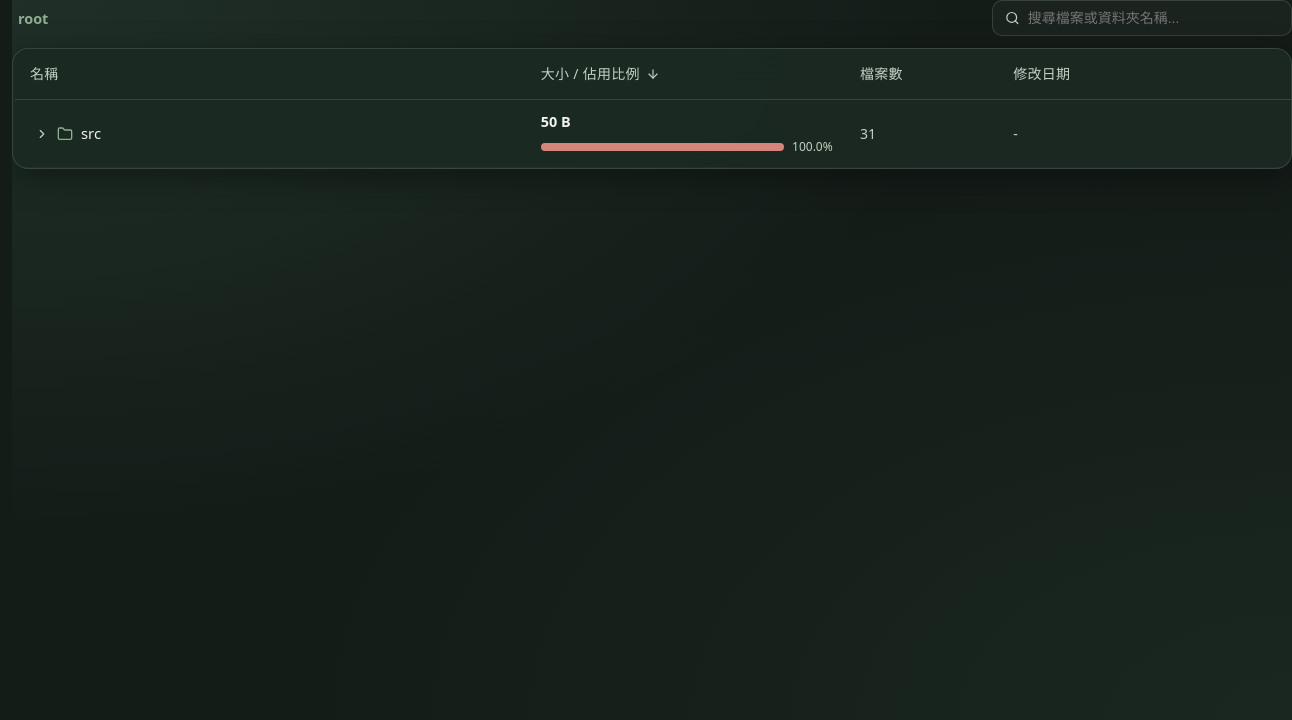
Test: TreeTable › toggles a directory expander and shows an empty search state
This screenshot has width=1292, height=720.
Click the button named "展開src" at (42, 134), box left=31, top=122, right=53, bottom=144
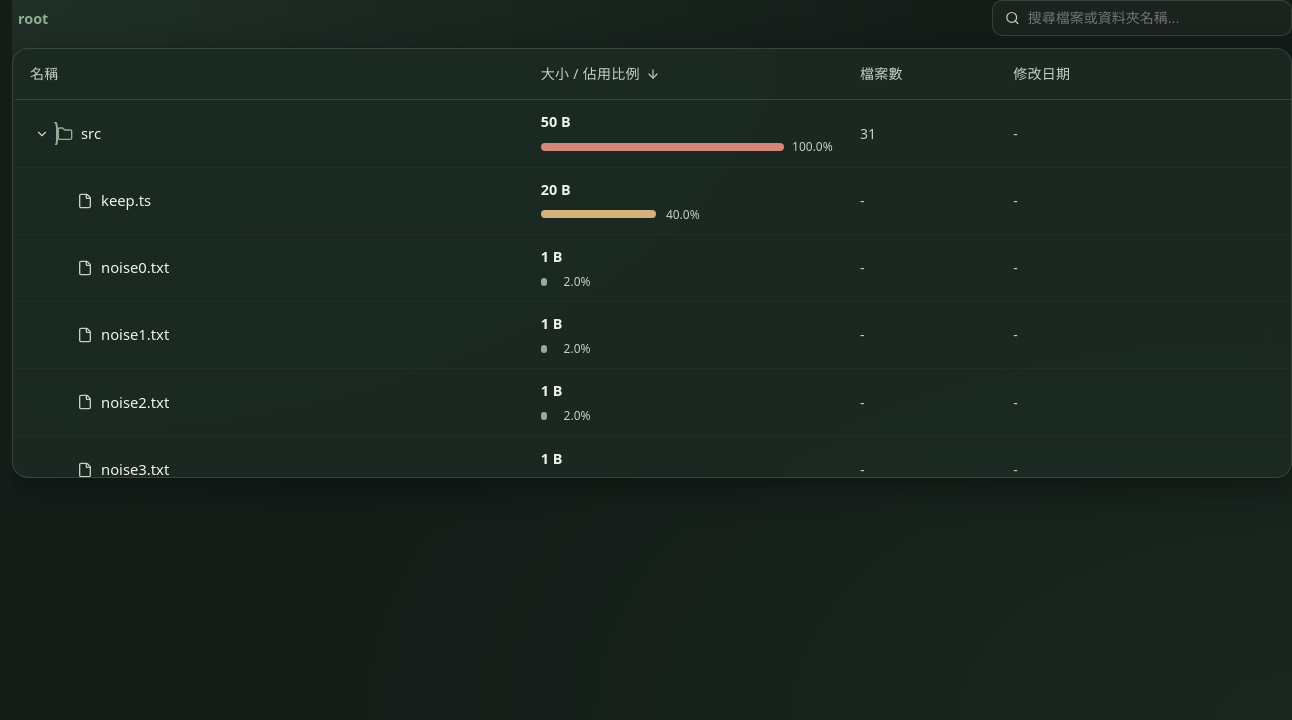
Type "zzzz-missing" into the field labelled "搜尋檔案或資料夾名稱" at (1153, 18), box left=1028, top=10, right=1279, bottom=26
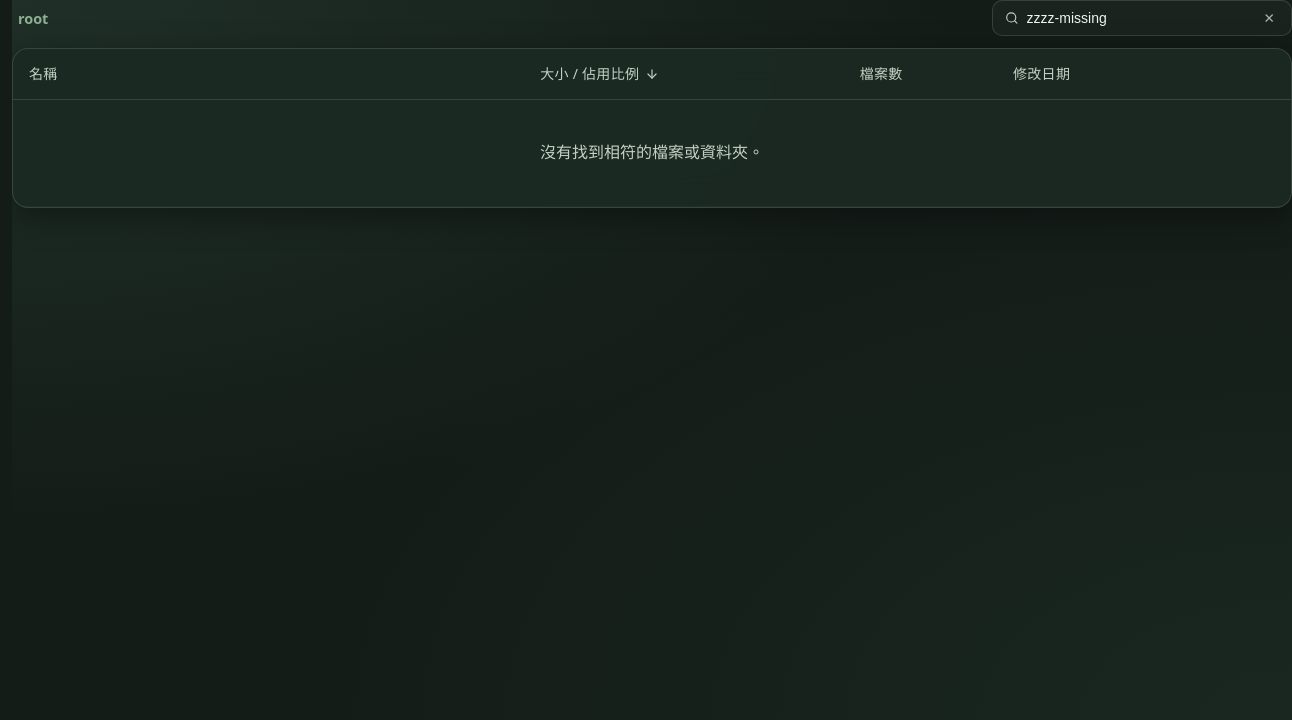
Now the text "沒有找到相符的檔案或資料夾。" is shown, box left=13, top=100, right=1291, bottom=206
